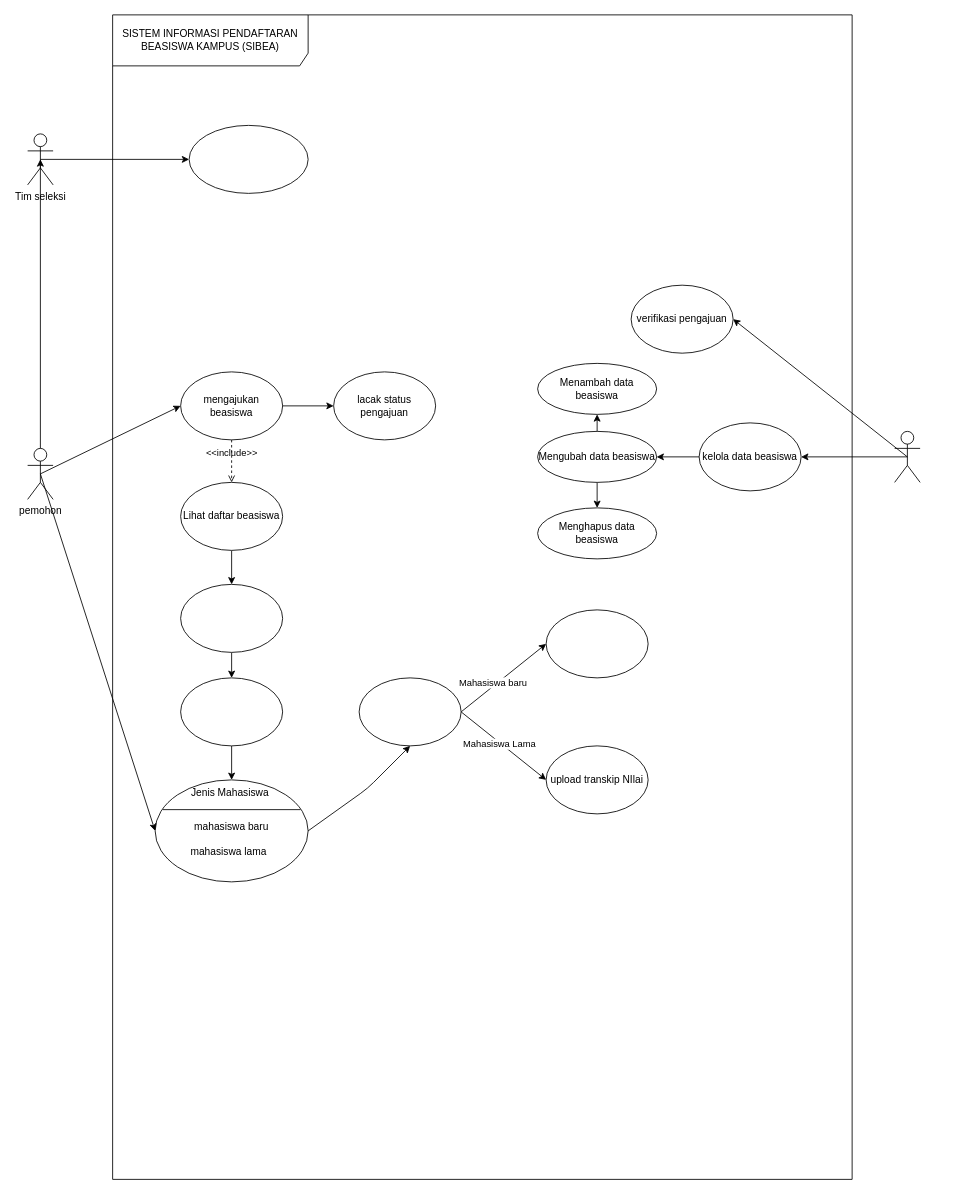
The diagram is 979 pixels wide and 1194 high, and some of its shapes have lost their labels. The centre of each missing label's shape, as x and y in pixels:
lihat syarat daftar beasiswa: point 231,618
periksa kelengkapan berkas: point 231,711
Petugas Kemahasiswaan: point 907,456
umumkan hasil seleksi: point 248,159
upload berkas: point 409,711
upload bukti kelulusan SMA: point 596,643
